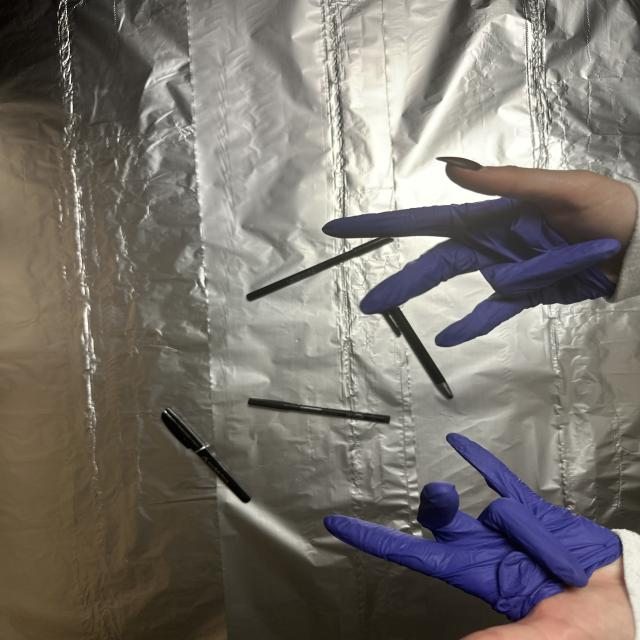glove_partial: (323, 428, 638, 640), (320, 151, 640, 346)
